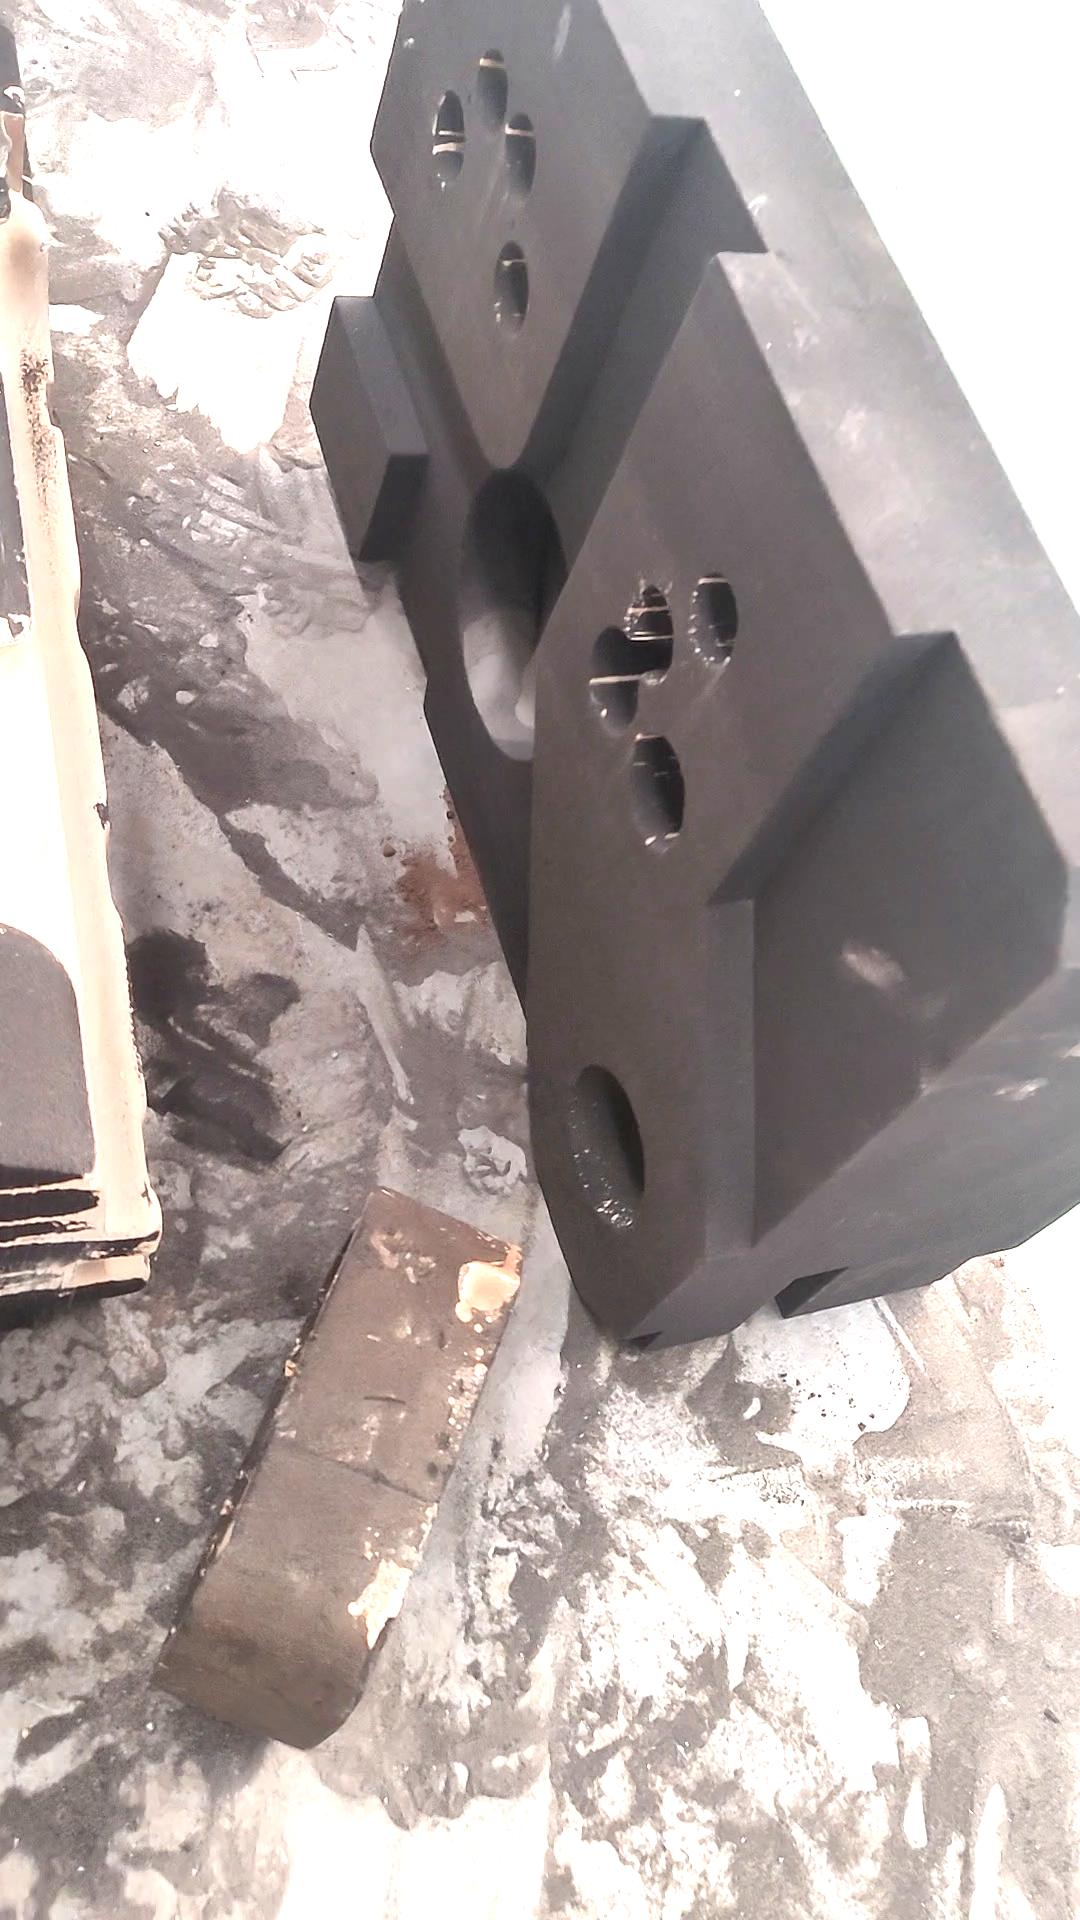pouring hole: (559, 1063, 651, 1234)
